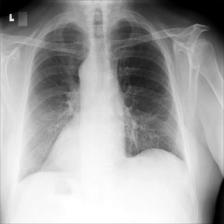normal: (12, 16, 190, 182)
